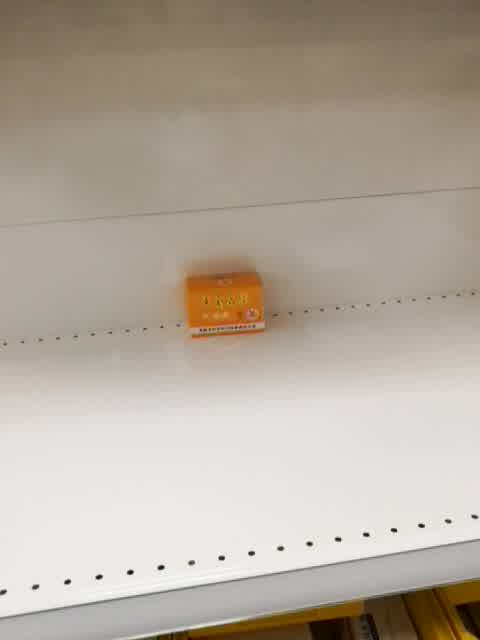jasminetea: (184, 270, 266, 341)
